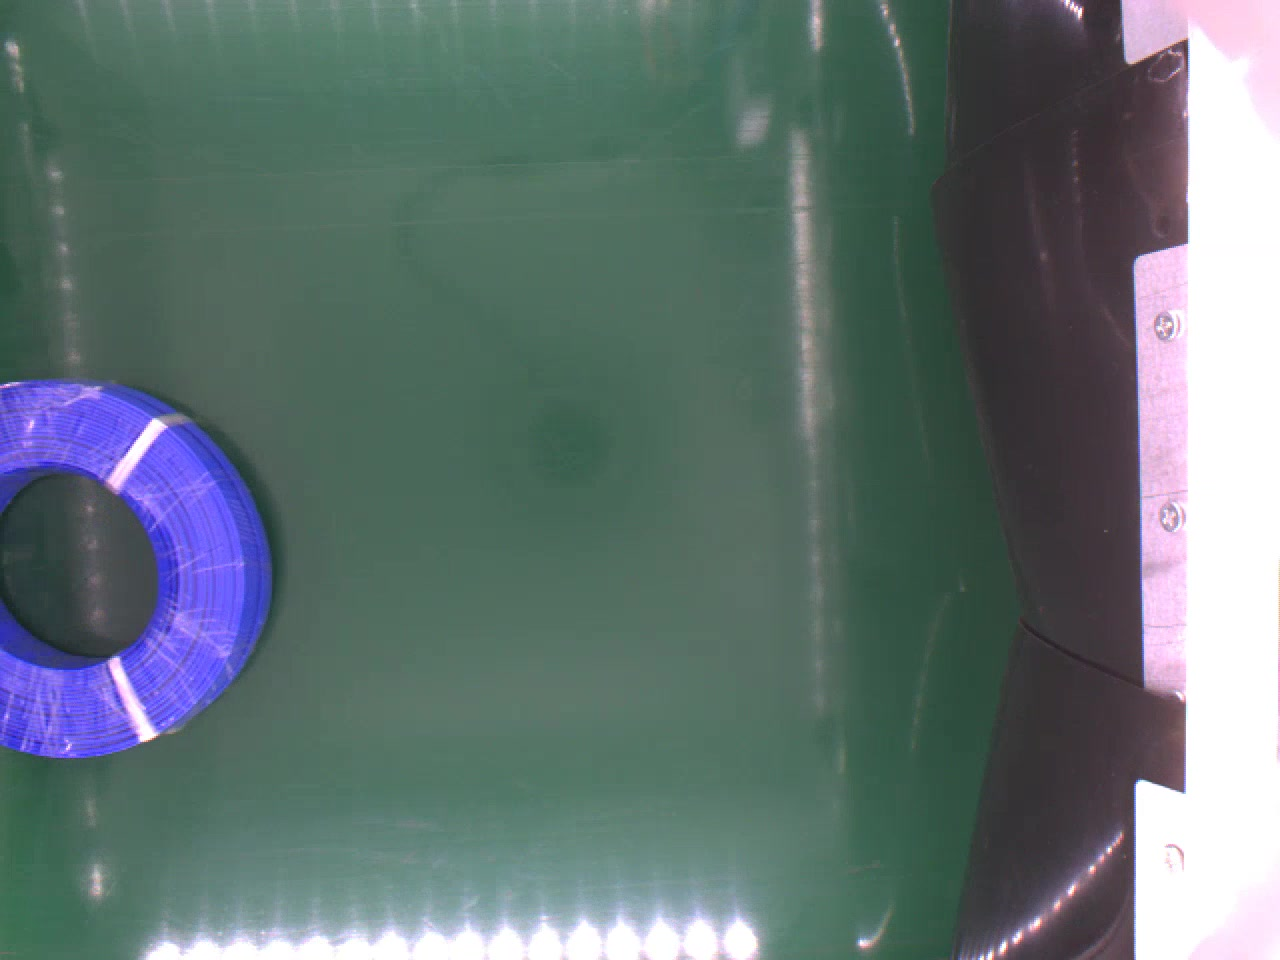blue: (1, 371, 275, 767)
